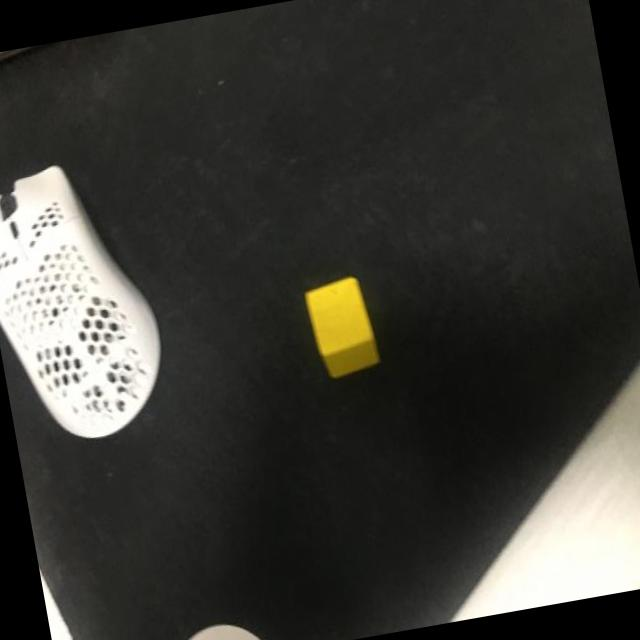yellow: (300, 274, 382, 382)
